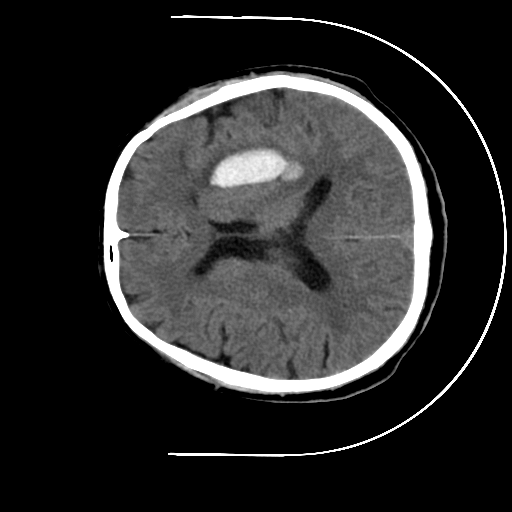a: (191, 131, 322, 202)
